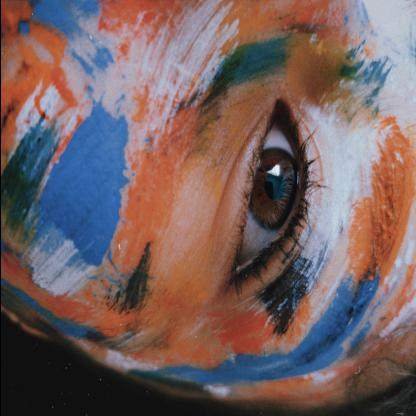Eye: (214, 86, 321, 309)
